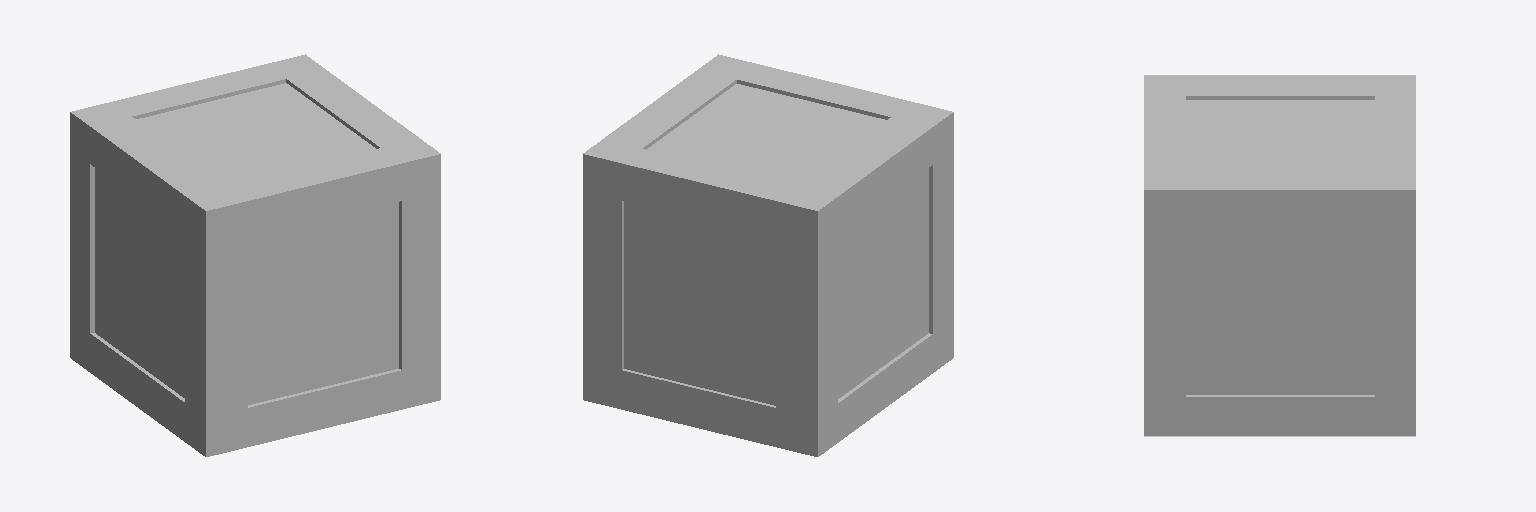
The model's file is WoodenCrate_Will.obj.
The picture shows the model from 3 angles: view 1: azimuth 30°, elevation 25°; view 2: azimuth 150°, elevation 25°; view 3: azimuth 270°, elevation 25°; orthographic projection.
Visible parts, largest first — view 1: Cube.000_Cube.003; view 2: Cube.000_Cube.003; view 3: Cube.000_Cube.003.
Boxes of the visible parts, x1=… form: Cube.000_Cube.003: x1=70, y1=54, x2=440, y2=456; Cube.000_Cube.003: x1=583, y1=54, x2=953, y2=456; Cube.000_Cube.003: x1=1144, y1=75, x2=1415, y2=436.
Size of the model in its own units: 155 by 155 by 155.